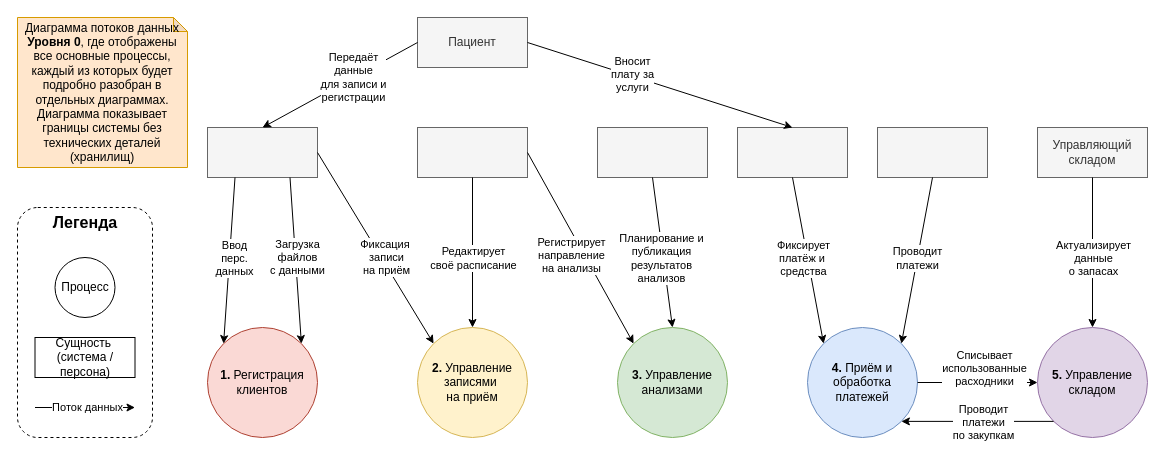
Image size: 1165x460. Some labels were removed from this diagram. The centre of each missing label's shape, as x and y in pixels:
Администратор: (x=262, y=152)
Бухгалтер: (x=932, y=152)
Врач: (x=472, y=152)
Кассир: (x=792, y=152)
Лабаратория: (x=652, y=152)
